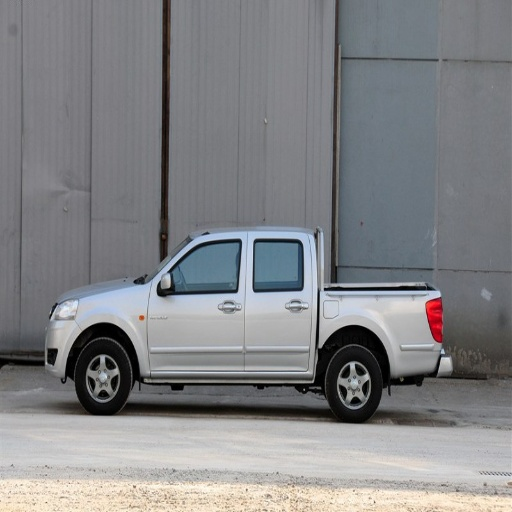back_left_door: (247, 235, 314, 370)
front_left_door: (147, 236, 247, 370)
trunk: (316, 284, 440, 376)
